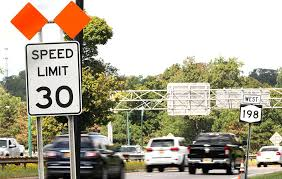speedLimit30: (24, 43, 83, 115)
